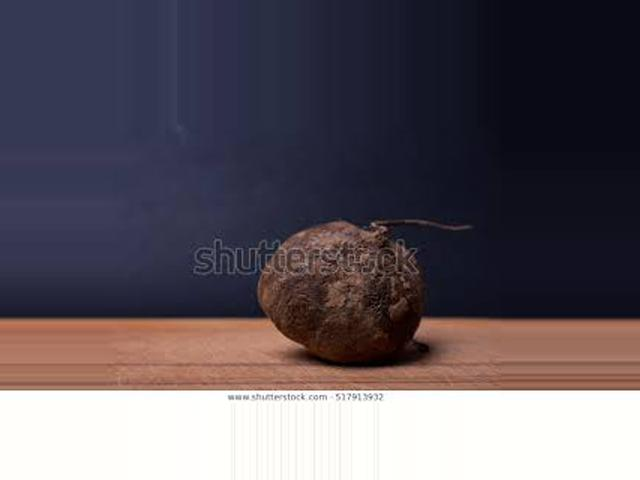beet: (258, 218, 476, 362)
